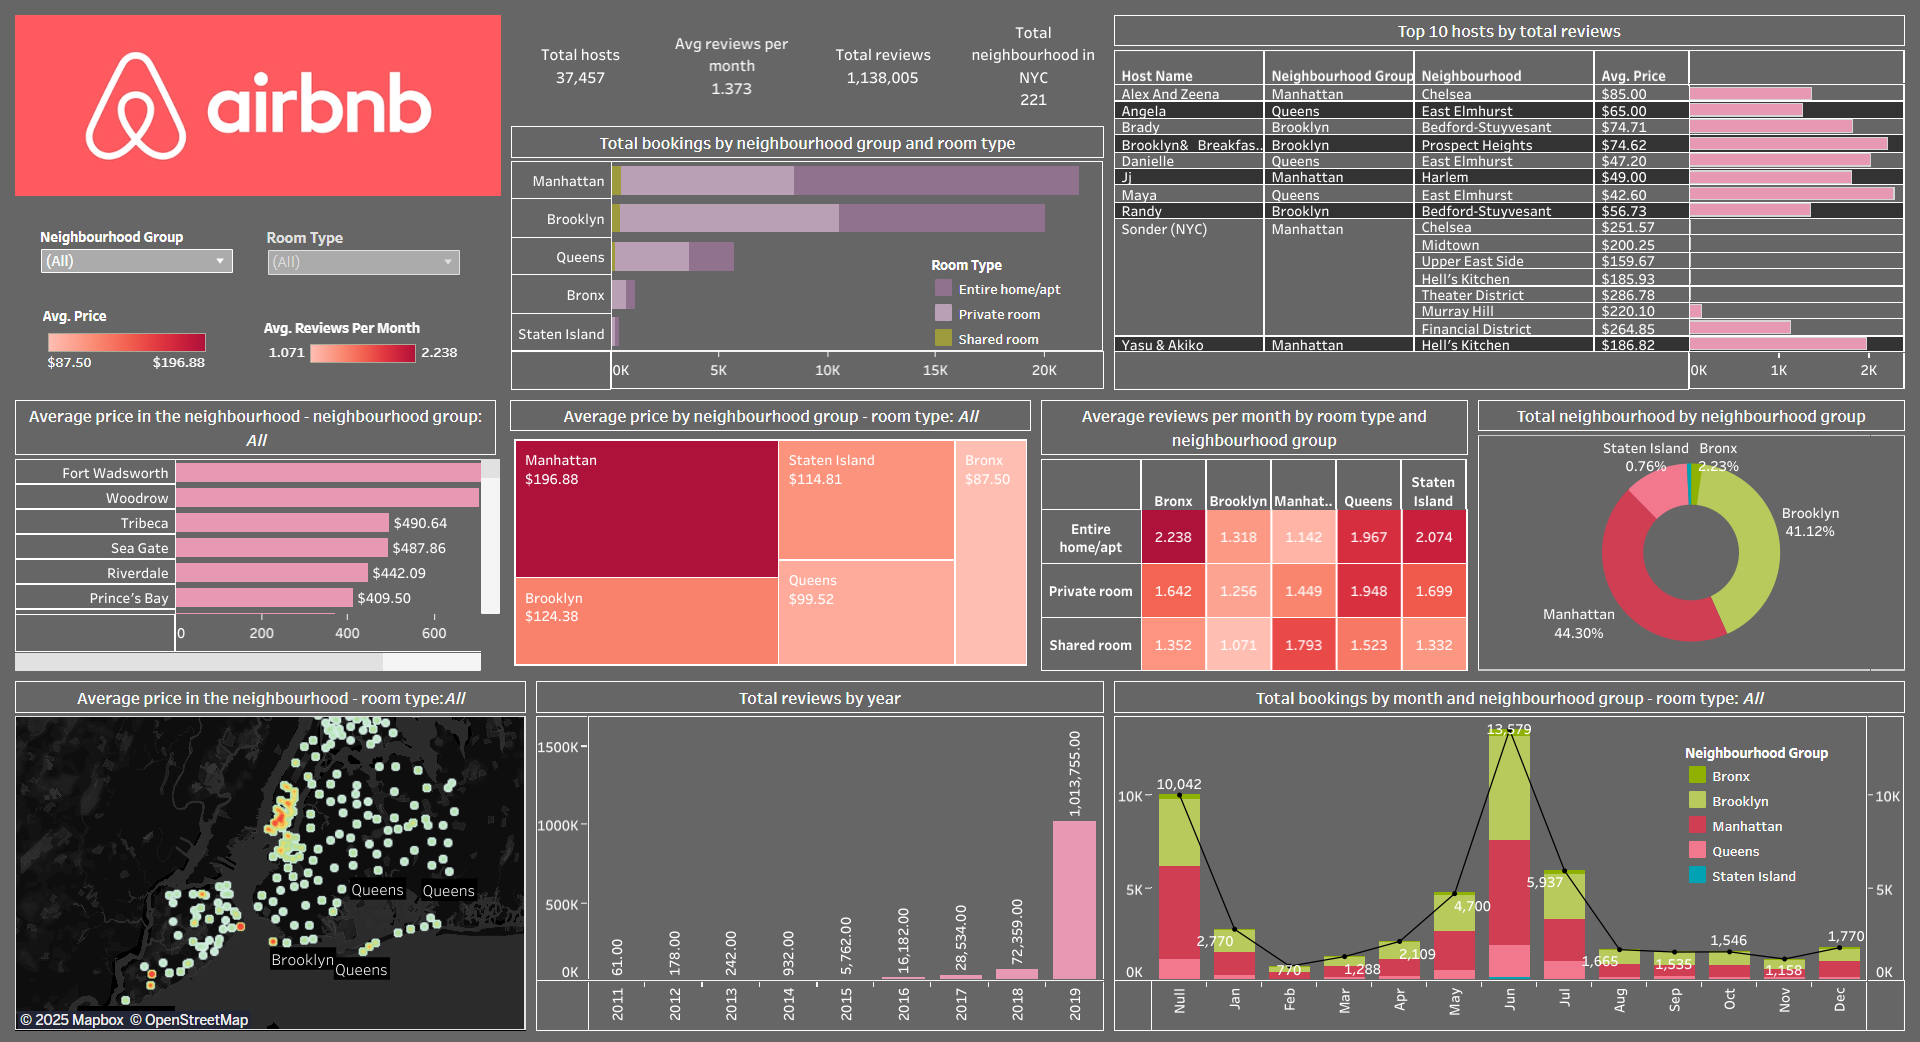

What the dashboard file says about the page in this screenshot:
{"tool":"tableau","page":{"name":"Dashboard ","canvas":[1000,1000],"units":"permille","ordinal":0},"visuals":[{"type":"image","param":"Image/airbnb.jpg","box":[4.9,9.3,258.4,367.9]},{"type":"worksheet","title":"Sheet 10","mark":"Automatic","box":[263.3,9.3,78.7,106.7]},{"type":"worksheet","title":"Sheet 12","mark":"Automatic","box":[342,9.3,78.6,106.7]},{"type":"worksheet","title":"Sheet 13","mark":"Automatic","box":[420.6,9.3,78.5,106.7]},{"type":"worksheet","title":"Sheet 11","mark":"Automatic","box":[499.1,9.3,78.7,106.7]},{"type":"worksheet","title":"Sheet 4","mark":"Automatic","rows":["host_name","neighbourhood_group","neighbourhood","price"],"cols":["number_of_reviews"],"box":[577.8,9.3,417.4,367.9]},{"type":"worksheet","title":"Sheet 5","mark":"Automatic","rows":["neighbourhood_group"],"cols":["name"],"box":[263.3,116,314.5,261.2]},{"type":"filter","title":"Sheet 1","param":"[federated.00tulny1vsyscn16dxnyt1k9nmzv].[none:room_type:nk]","box":[138.9,216,101.3,106.9]},{"type":"filter","title":"Sheet 8","param":"[federated.00tulny1vsyscn16dxnyt1k9nmzv].[none:neighbourhood_group:nk]","box":[20.6,217.2,101.3,191.6]},{"type":"legend","title":"Sheet 5","param":"[federated.00tulny1vsyscn16dxnyt1k9nmzv].[none:room_type:nk]","box":[485.1,243.9,84.3,91.8]},{"type":"legend","title":"Sheet 7","param":"[federated.00tulny1vsyscn16dxnyt1k9nmzv].[avg:price:qk]","box":[21.8,292.7,87.9,91.8]},{"type":"legend","title":"Sheet 9","param":"[federated.00tulny1vsyscn16dxnyt1k9nmzv].[avg:reviews_per_month:qk]","box":[137.7,303.1,103.7,91.8]},{"type":"worksheet","title":"Sheet 8","mark":"Automatic","rows":["neighbourhood"],"cols":["price"],"box":[4.9,377.2,258.3,269.6]},{"type":"worksheet","title":"Sheet 7","mark":"Automatic","box":[263.1,377.2,276.4,269.6]},{"type":"worksheet","title":"Sheet 9","mark":"Square","rows":["room_type"],"cols":["neighbourhood_group"],"box":[539.6,377.2,227.7,269.6]},{"type":"worksheet","title":"Sheet 3","mark":"Pie","rows":["Calculation_1783425480920723462","Calculation_1783425480920723462"],"box":[767.3,377.2,227.9,269.6]},{"type":"worksheet","title":"Sheet 1","mark":"Heatmap","rows":["latitude"],"cols":["longitude"],"box":[4.9,646.8,271.4,343.9]},{"type":"worksheet","title":"Sheet 6","mark":"Bar","rows":["number_of_reviews"],"cols":["last_review"],"box":[276.2,646.8,301.6,343.9]},{"type":"worksheet","title":"Sheet 2","mark":"Bar","rows":["name","name"],"cols":["last_review"],"box":[577.8,646.8,417.4,343.9]},{"type":"legend","title":"Sheet 2","param":"[federated.00tulny1vsyscn16dxnyt1k9nmzv].[none:neighbourhood_group:nk]","box":[877.5,709.6,84.3,138.2]}]}

Visuals, with their boxes on the dashboard's canvas, which has no fixed pixel size, in thousandths of its width and height (x1, y1, x2, y2). These are canvas units, not pixel positions in the 1920x1042 screenshot, which may show the page scaled, cropped or inside an application window:
image: 5, 9, 263, 377
"Sheet 10" worksheet: 263, 9, 342, 116
"Sheet 12" worksheet: 342, 9, 421, 116
"Sheet 13" worksheet: 421, 9, 499, 116
"Sheet 11" worksheet: 499, 9, 578, 116
"Sheet 4" worksheet: 578, 9, 995, 377
"Sheet 5" worksheet: 263, 116, 578, 377
"Sheet 1" filter: 139, 216, 240, 323
"Sheet 8" filter: 21, 217, 122, 409
"Sheet 5" legend: 485, 244, 569, 336
"Sheet 7" legend: 22, 293, 110, 384
"Sheet 9" legend: 138, 303, 241, 395
"Sheet 8" worksheet: 5, 377, 263, 647
"Sheet 7" worksheet: 263, 377, 540, 647
"Sheet 9" worksheet (Square marks): 540, 377, 767, 647
"Sheet 3" worksheet (Pie marks): 767, 377, 995, 647
"Sheet 1" worksheet (Heatmap marks): 5, 647, 276, 991
"Sheet 6" worksheet (Bar marks): 276, 647, 578, 991
"Sheet 2" worksheet (Bar marks): 578, 647, 995, 991
"Sheet 2" legend: 878, 710, 962, 848
